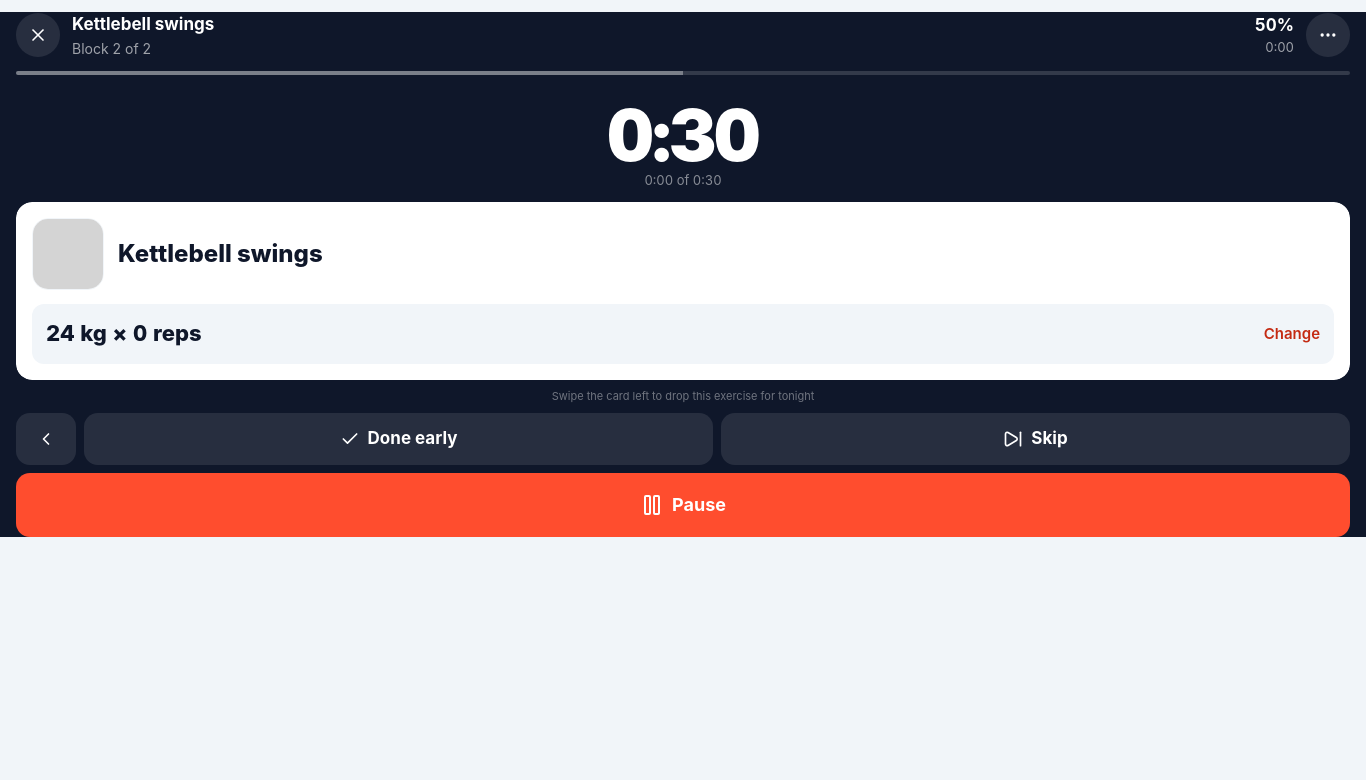
what the card asks to log › timed swings set to log reps ask for reps next to the load
Click the button with aria-label "24 kg × 0 reps. Change": coordinates (124, 333) [32,304,1334,364]
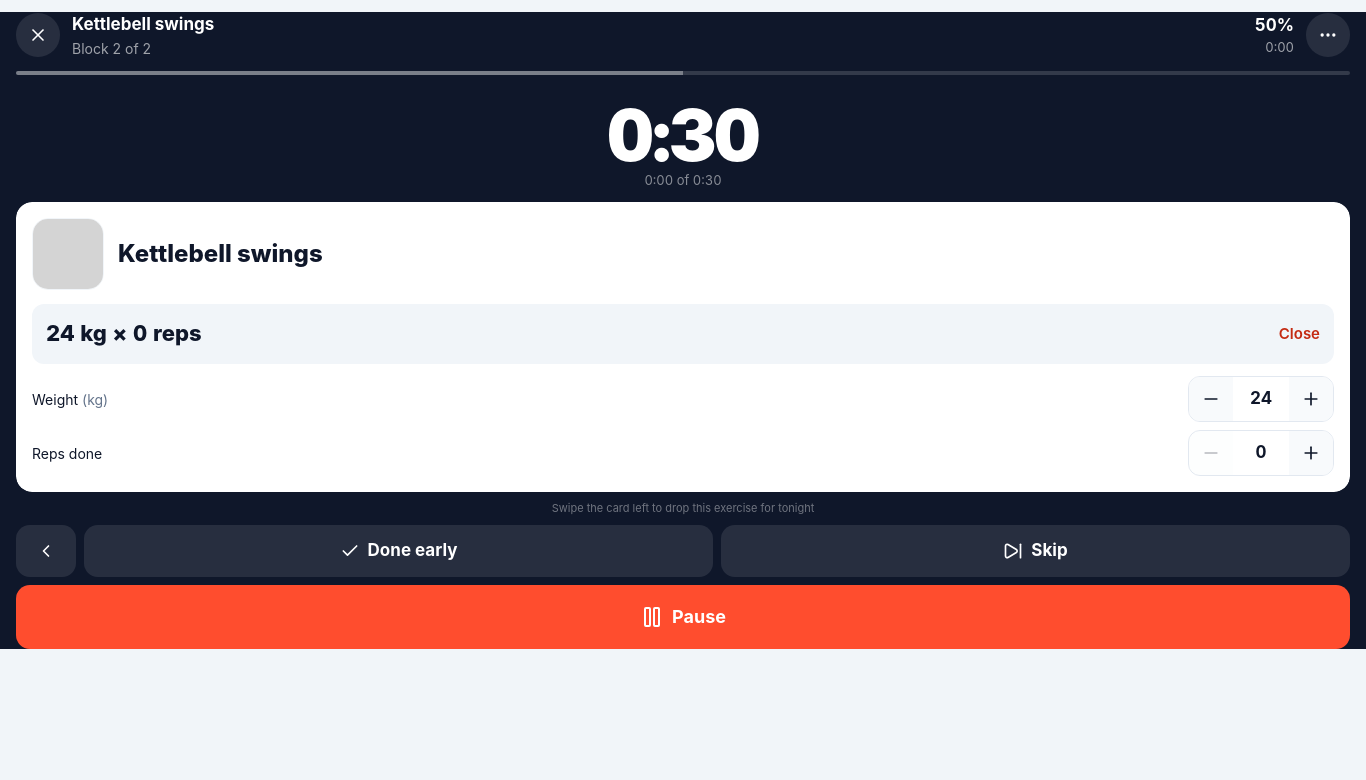
Expected: the text "Reps done" is shown, [32,442,102,464]
